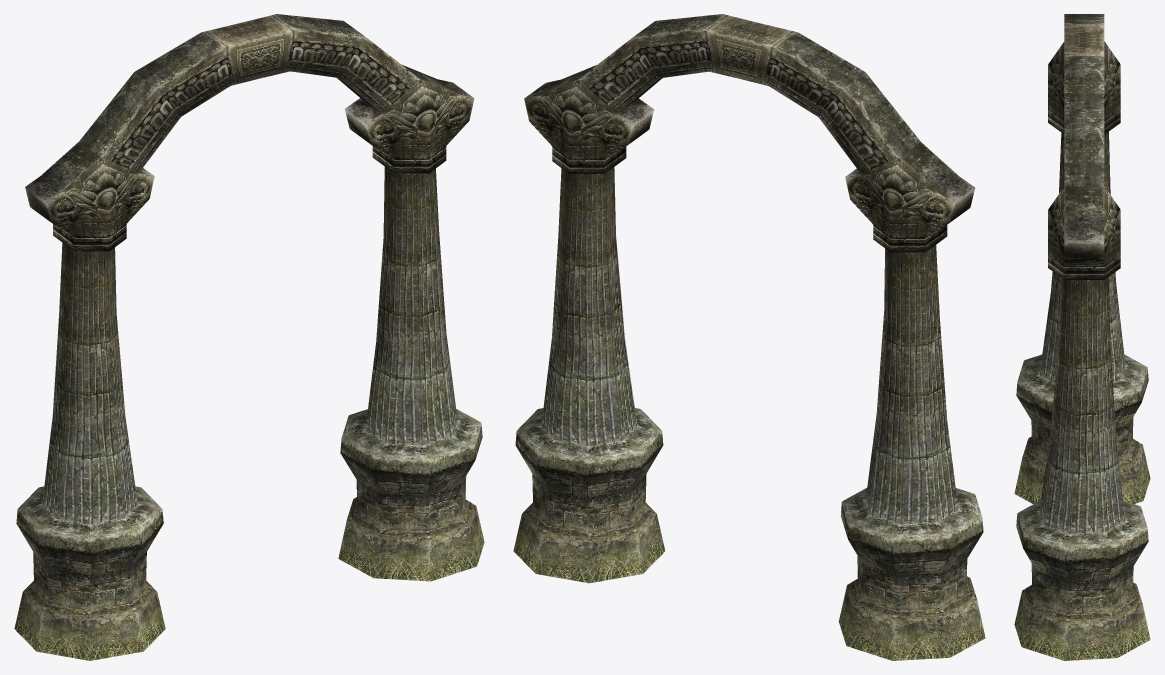
3 views of the same model, side by side, from view 1: azimuth 30°, elevation 25°; view 2: azimuth 150°, elevation 25°; view 3: azimuth 270°, elevation 25° (orthographic). The views are drawn at different scales.
Parts seen in each view (by area): view 1: OM_20_mi_f06obj02B; view 2: OM_20_mi_f06obj02B; view 3: OM_20_mi_f06obj02B.
Part boxes in pixels (x1,y1,x2,y2): OM_20_mi_f06obj02B: [14, 14, 484, 660]; OM_20_mi_f06obj02B: [513, 14, 985, 660]; OM_20_mi_f06obj02B: [1014, 14, 1150, 660].
Bounding box in the file's own units: 12.33 × 14.68 × 3.49.
Materials: 1 (1 with a texture image).
